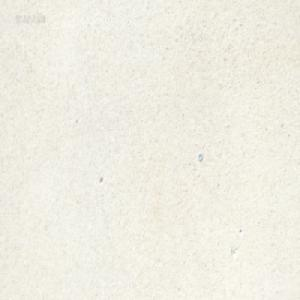Washer: (197, 152, 202, 162)
